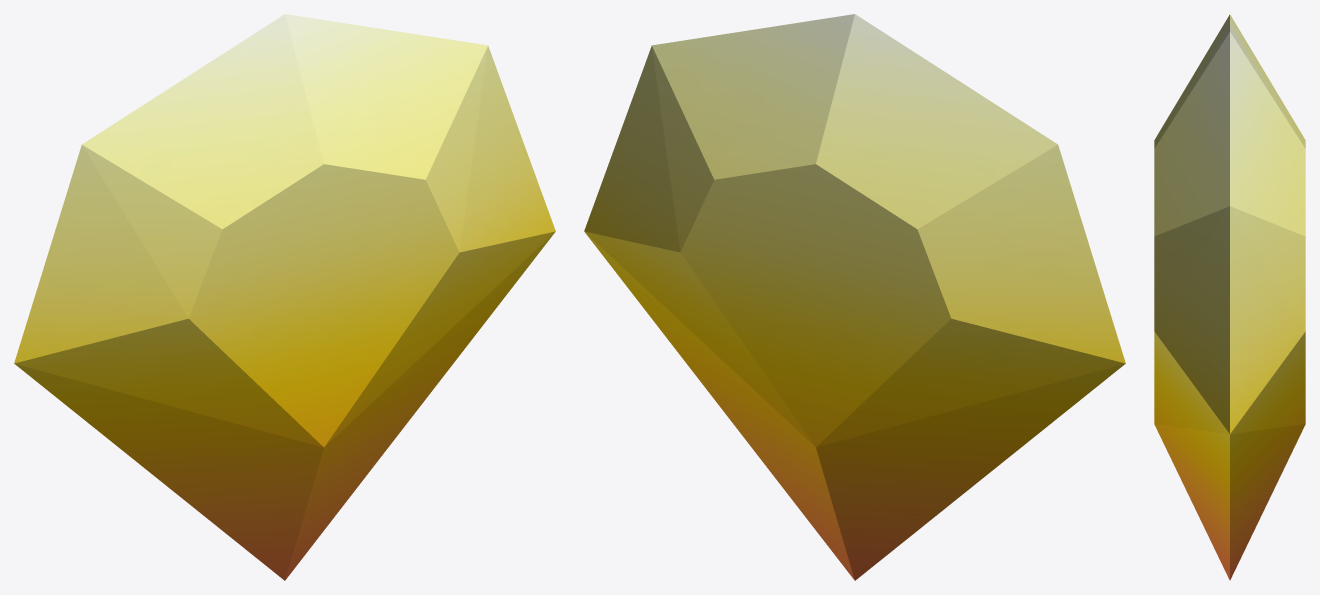
The model's file is gem_daily_1.dae.
3 renders of one model, left to right at view 1: azimuth 30°, elevation 25°; view 2: azimuth 150°, elevation 25°; view 3: azimuth 270°, elevation 25°, orthographic. The views are drawn at different scales.
Parts seen in each view (by area): view 1: Gem6; view 2: Gem6; view 3: Gem6.
Boxes of the visible parts, box(x1,y1,x2,y2) form: Gem6: box(14, 14, 555, 580); Gem6: box(584, 14, 1125, 580); Gem6: box(1154, 14, 1305, 580).
Size of the model in its own units: 1 by 0.25 by 1.
